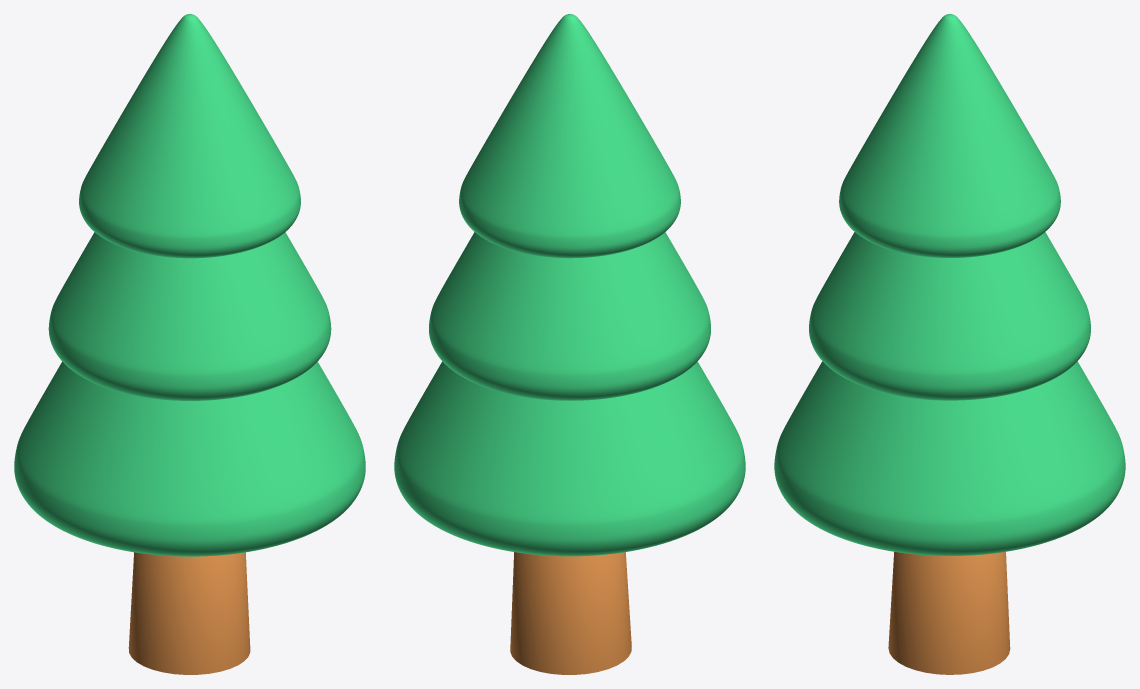
File: tree2.fbx
3 views of the same model, side by side, from view 1: azimuth 30°, elevation 25°; view 2: azimuth 150°, elevation 25°; view 3: azimuth 270°, elevation 25° (orthographic).
Visible parts, largest first — view 1: Cone, Cone.001, Cone.002, Cylinder; view 2: Cone, Cone.001, Cone.002, Cylinder; view 3: Cone, Cone.001, Cone.002, Cylinder.
Boxes of the visible parts, x1,y1,x2,y2 form: Cone: (14, 361, 365, 556); Cone.001: (48, 232, 331, 400); Cone.002: (79, 14, 300, 258); Cylinder: (128, 552, 250, 674); Cone: (394, 361, 745, 556); Cone.001: (429, 232, 710, 400); Cone.002: (459, 14, 680, 258); Cylinder: (510, 552, 631, 674); Cone: (774, 361, 1125, 555); Cone.001: (809, 232, 1090, 400); Cone.002: (839, 14, 1060, 257); Cylinder: (888, 552, 1010, 674).
Bounding box in the file's own units: 126 × 251 × 126.
